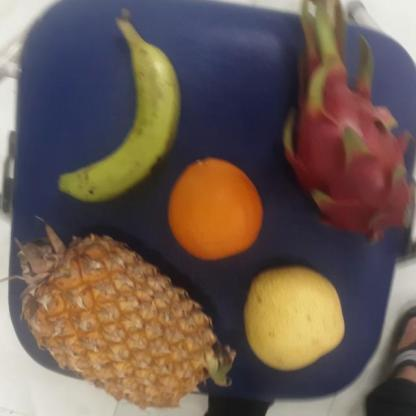banana: (69, 28, 179, 198)
orange: (164, 154, 262, 259)
pear: (240, 263, 346, 374)
pineapple: (13, 234, 218, 413)
pitaya: (283, 26, 412, 244)
